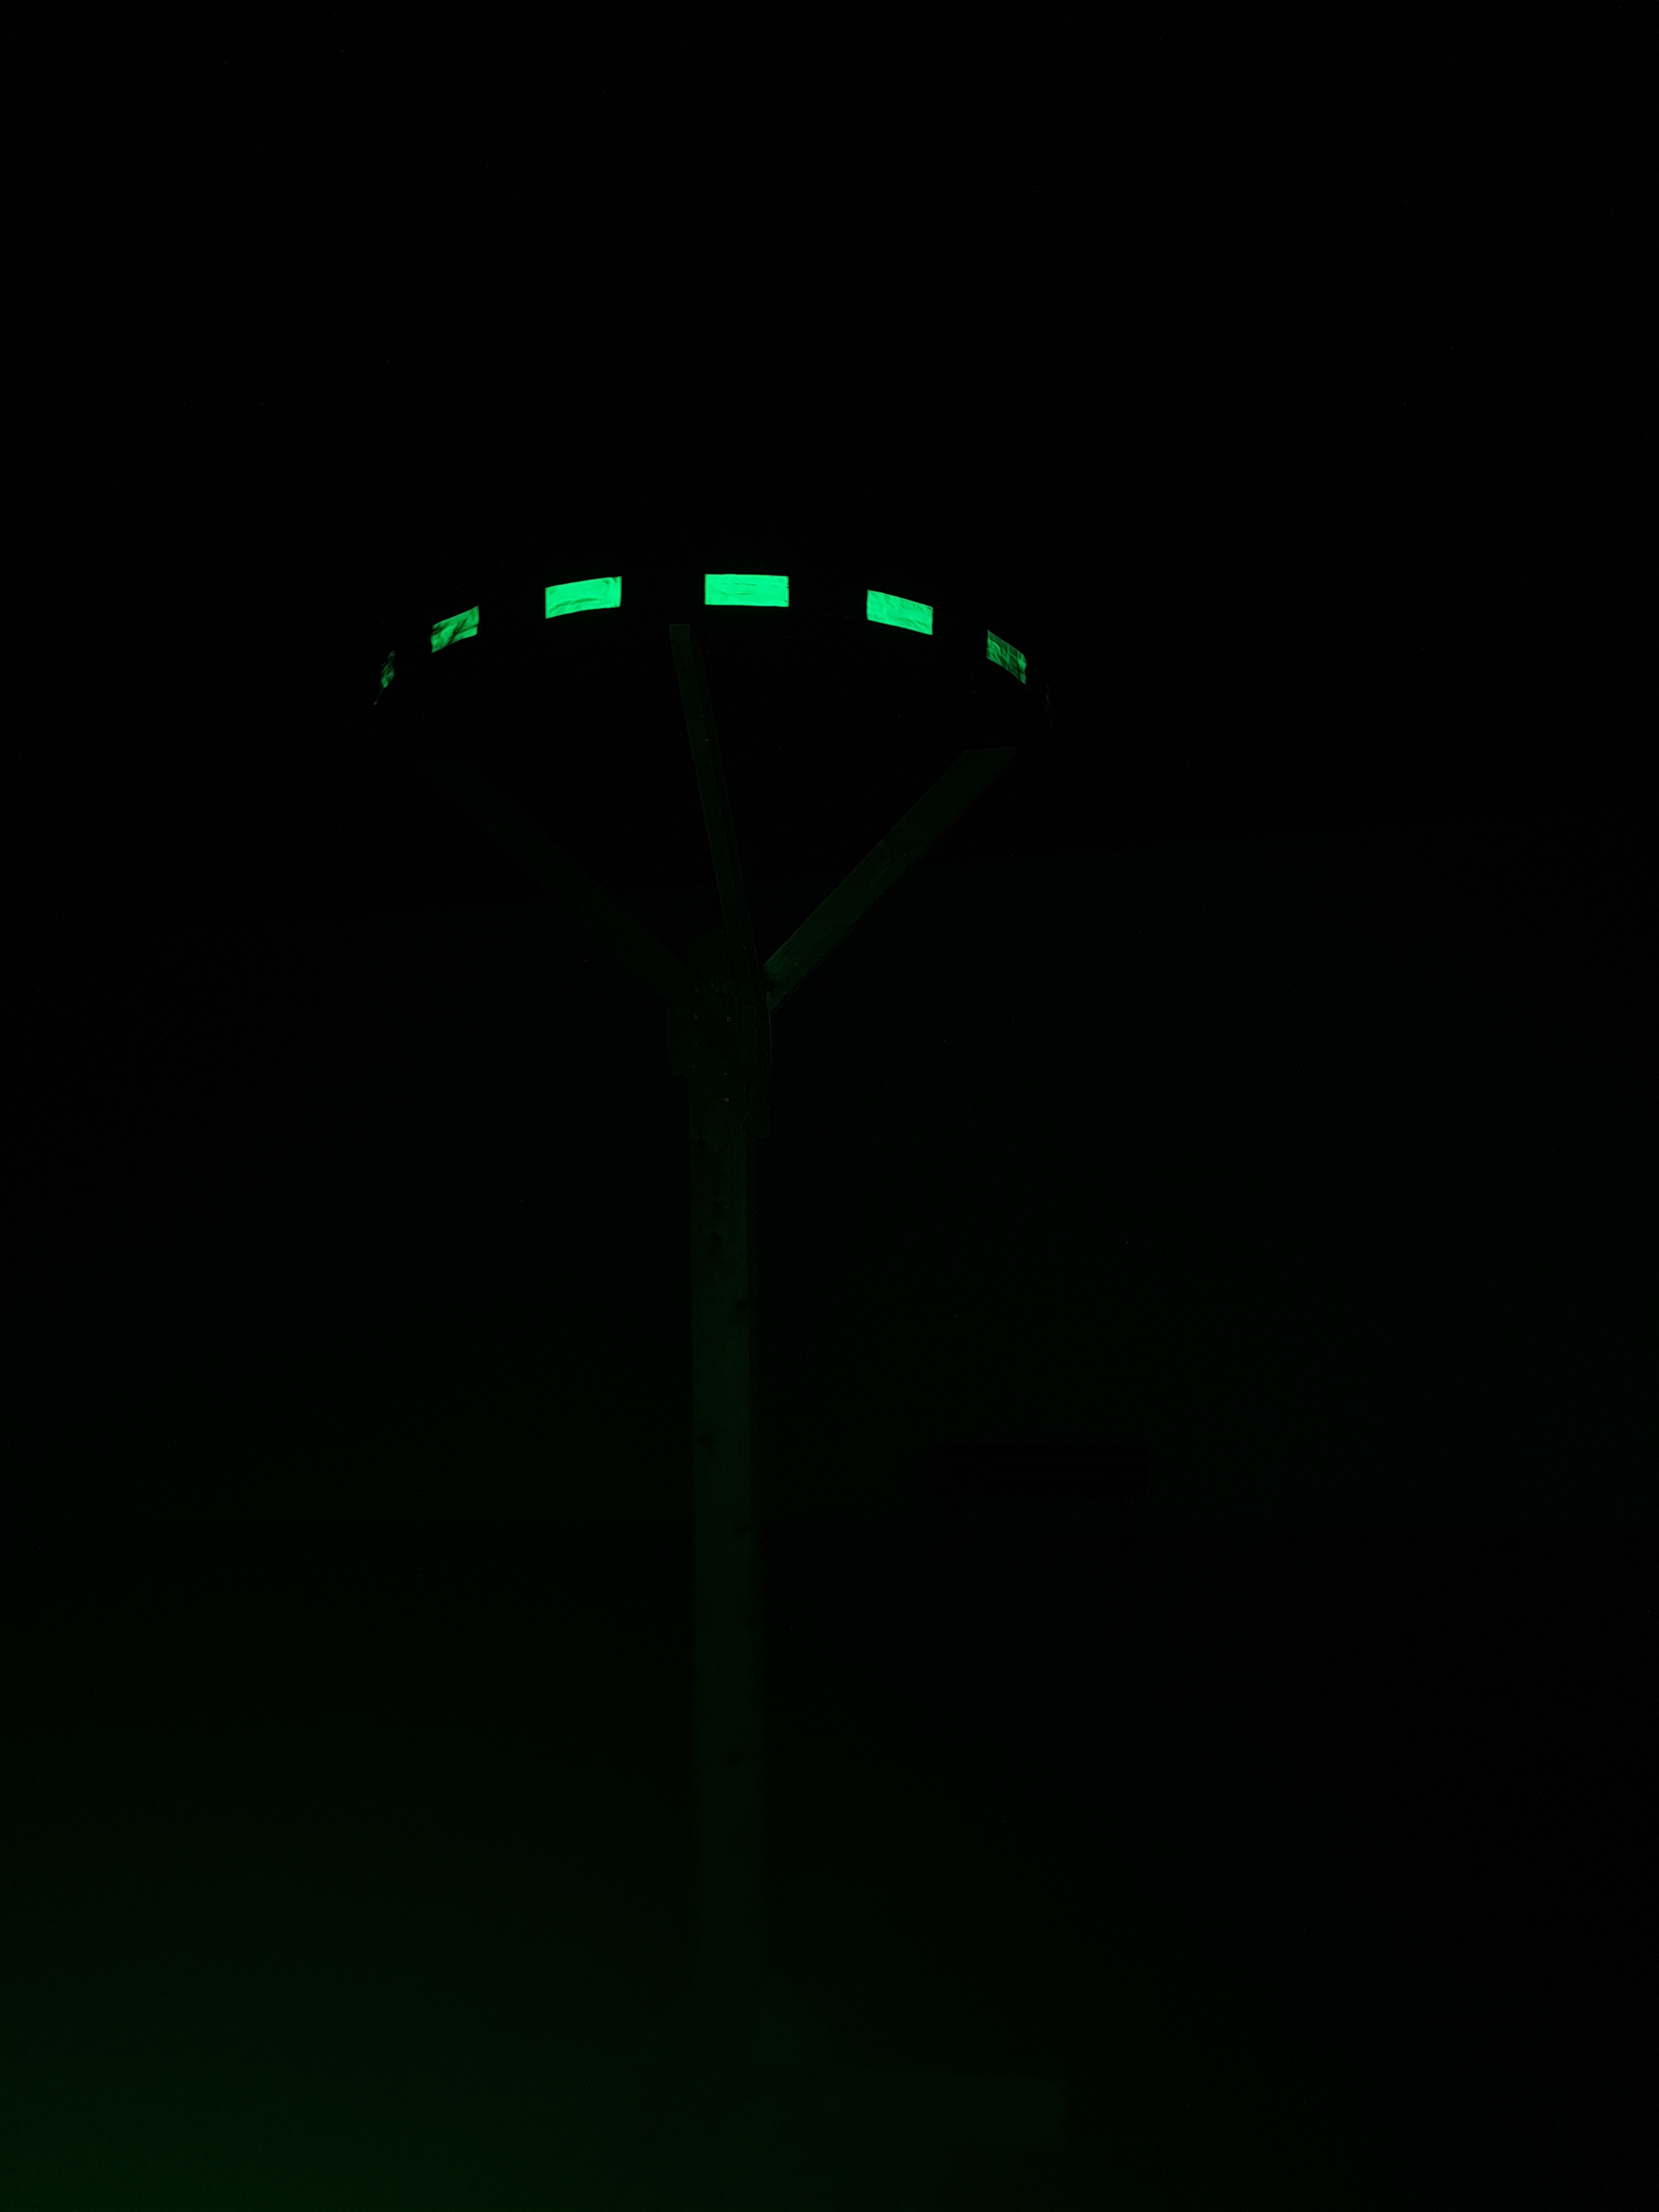hoop: (378, 561, 1030, 705)
